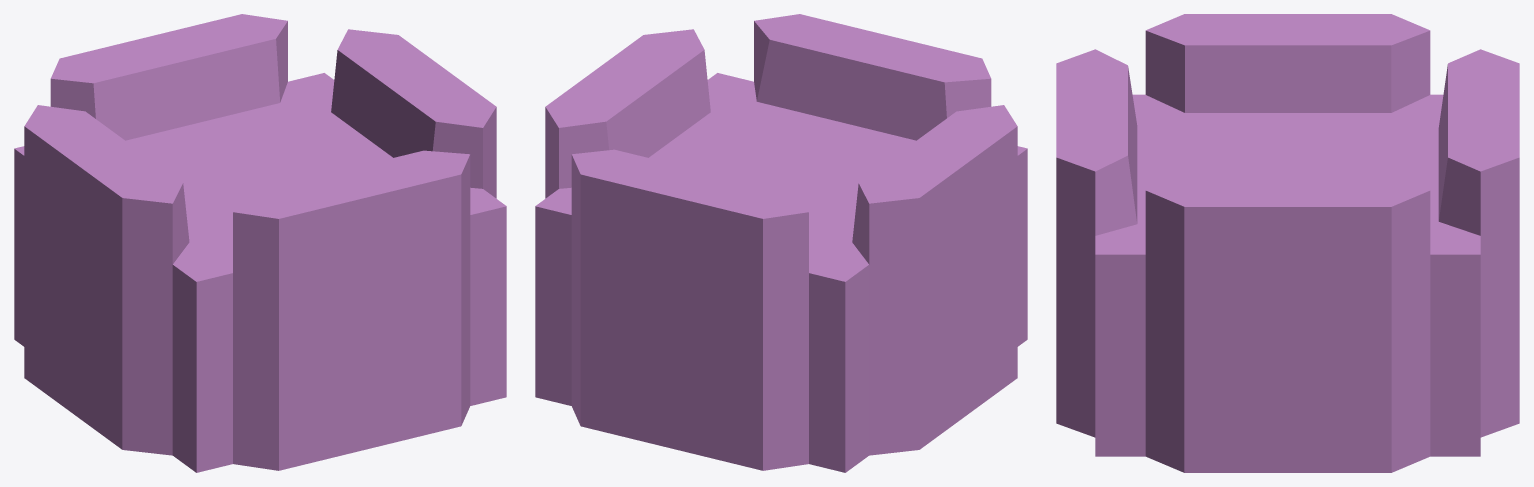
The model's file is Tower_Top_A.fbx.
3 views of the same model, side by side, from view 1: azimuth 30°, elevation 25°; view 2: azimuth 150°, elevation 25°; view 3: azimuth 270°, elevation 25° (orthographic). The views are drawn at different scales.
Visible parts, largest first — view 1: Tower_Top_A; view 2: Tower_Top_A; view 3: Tower_Top_A.
Part boxes in pixels (x1,y1,x2,y2): Tower_Top_A: (14,14,506,472); Tower_Top_A: (535,14,1027,472); Tower_Top_A: (1056,14,1519,472).
Bounding box in the file's own units: 615 × 396 × 624.
